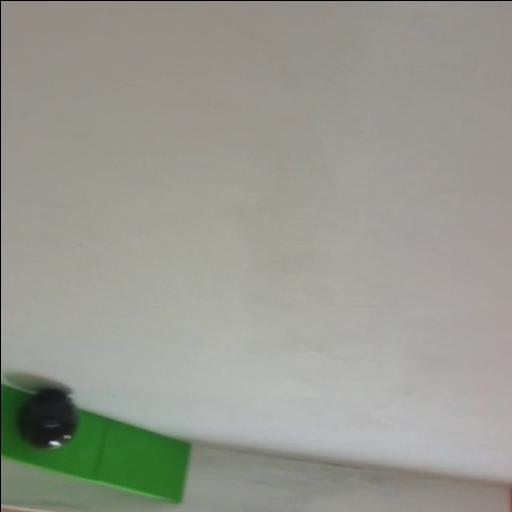dead: (15, 388, 78, 450)
